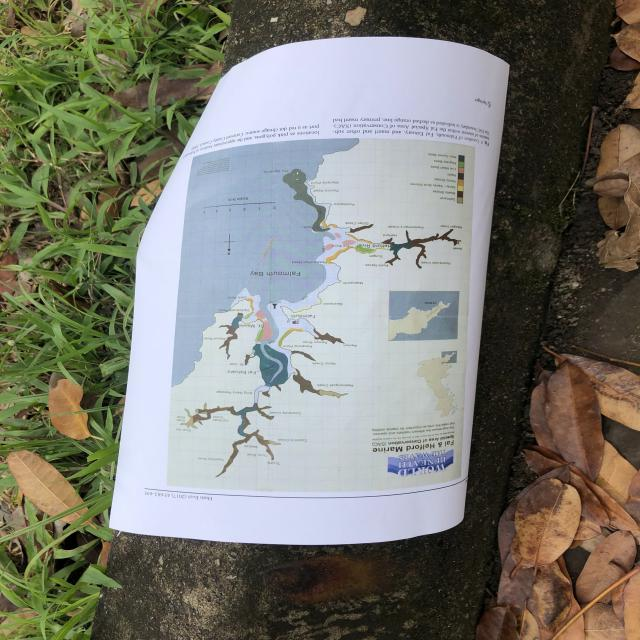document: (110, 38, 508, 545)
